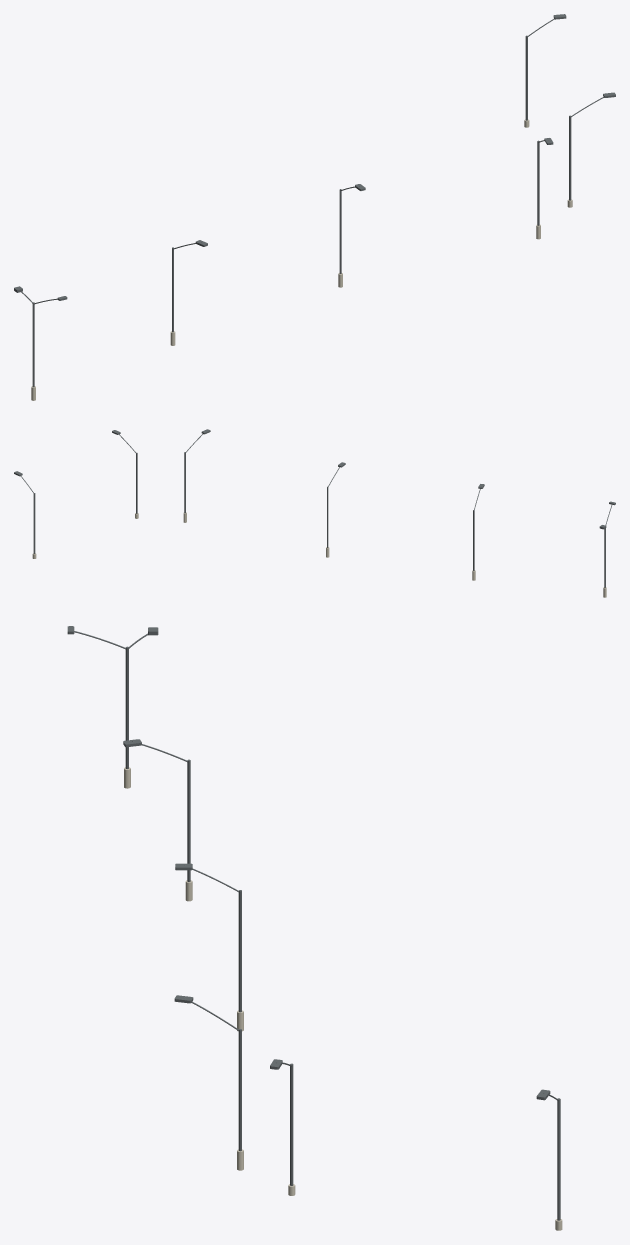
3 renders of one model, top to bottom at view 1: azimuth 30°, elevation 25°; view 2: azimuth 150°, elevation 25°; view 3: azimuth 270°, elevation 25°, orthographic. The views are drawn at different scales.
Visible parts, largest first — view 1: buildings_s_-3_-4_Dark_Metal; view 2: buildings_s_-3_-4_Dark_Metal; view 3: buildings_s_-3_-4_Dark_Metal.
Part boxes in pixels (x1,y1,x2,y2): buildings_s_-3_-4_Dark_Metal: (14,14,615,387); buildings_s_-3_-4_Dark_Metal: (14,429,615,587); buildings_s_-3_-4_Dark_Metal: (67,626,560,1220).
Size of the model in its own units: 111 by 17.75 by 48.16.
